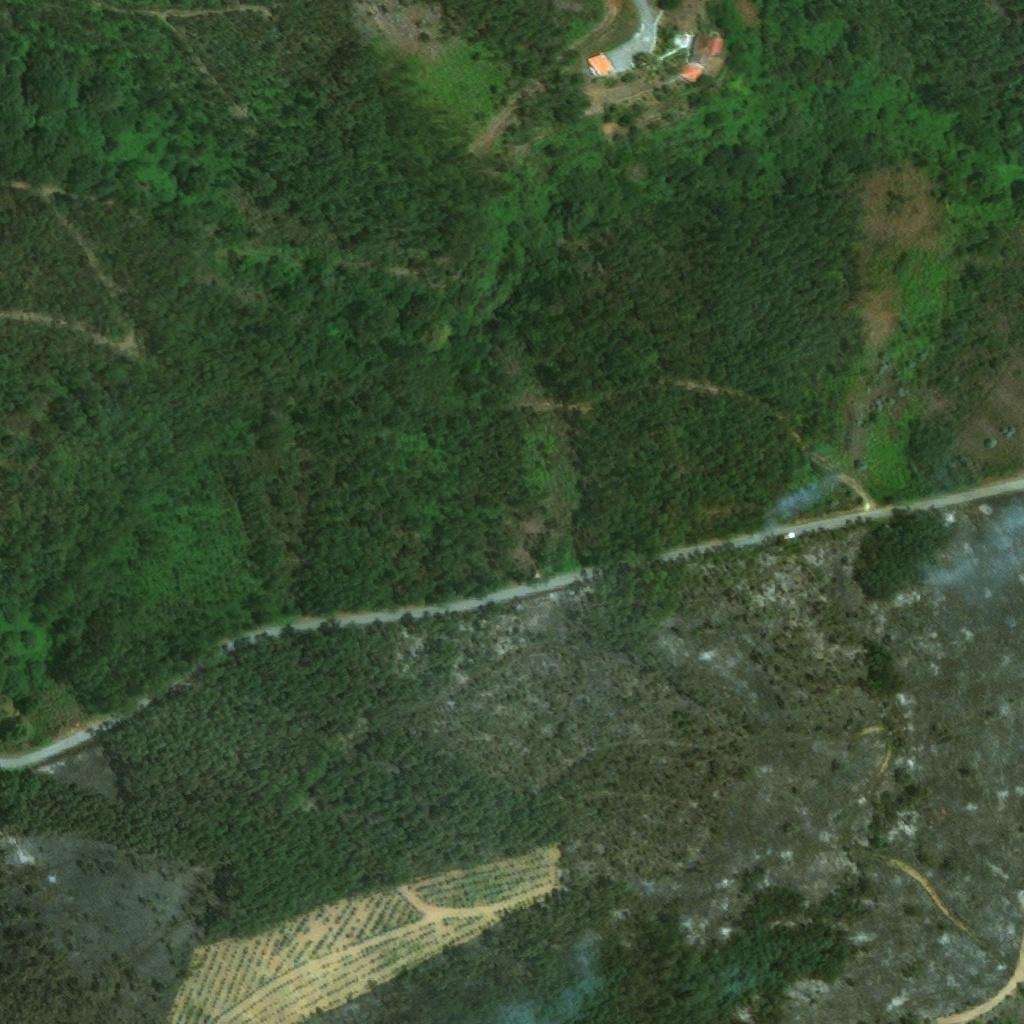0 no-damage: (692, 28, 725, 59), (587, 52, 617, 78), (675, 60, 707, 84), (691, 55, 708, 68)
